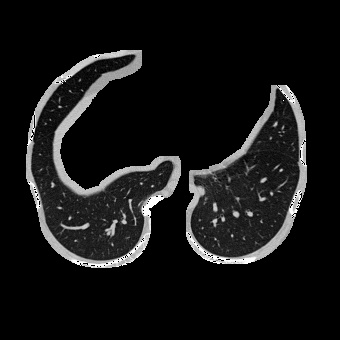PN: (197, 186, 205, 194)
